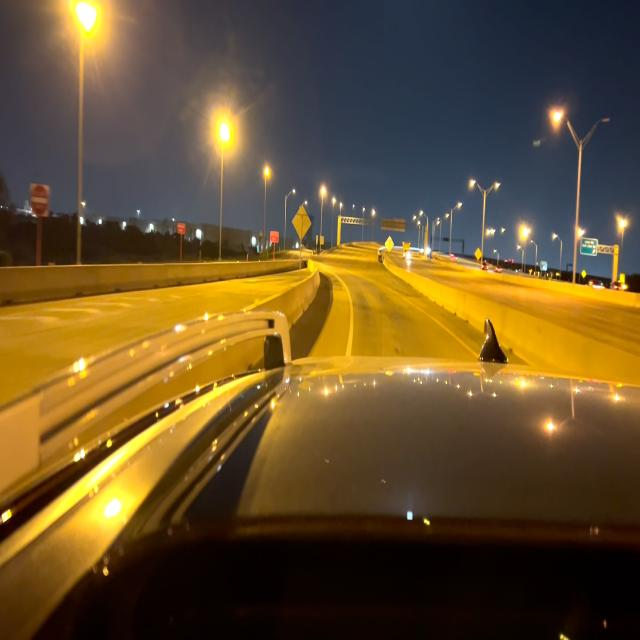back-of-sign: (292, 205, 310, 242)
